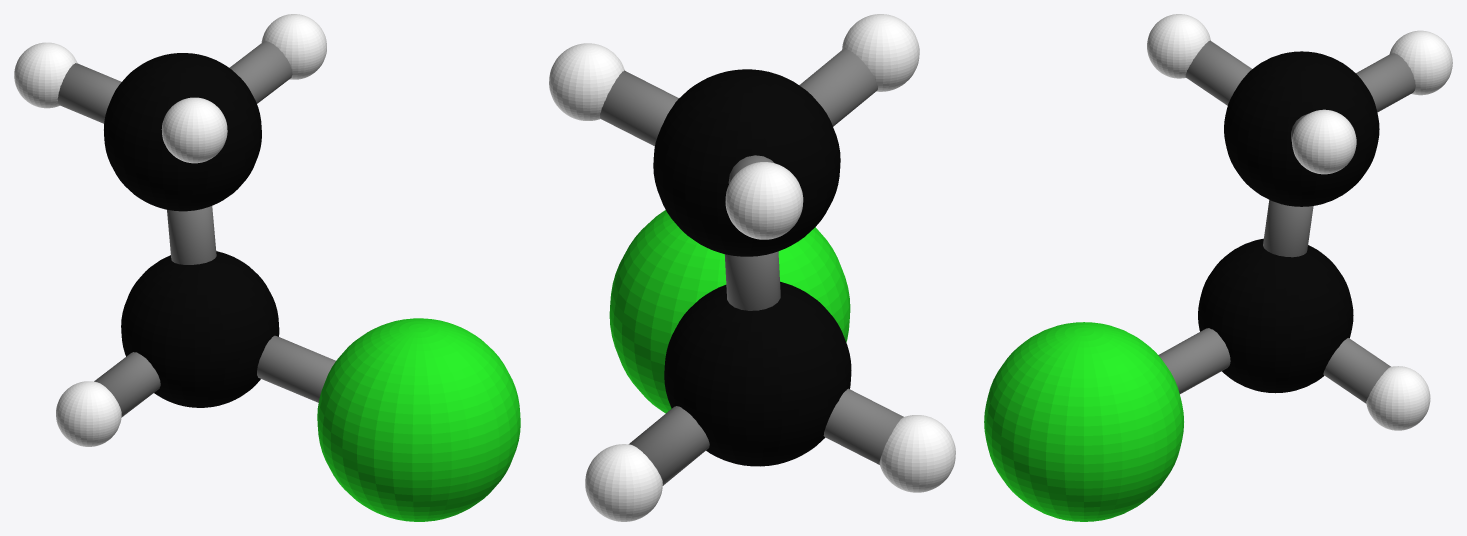
Rendered from CLORURO VINILO.obj.
3 renders of one model, left to right at view 1: azimuth 30°, elevation 25°; view 2: azimuth 150°, elevation 25°; view 3: azimuth 270°, elevation 25°, orthographic. The views are drawn at different scales.
Parts seen in each view (by area): view 1: Carbon_ball_Sphere.001, Chlorine_ball_Sphere.002, Hydrogen_ball_Sphere, Stick_Cylinder.005_Cylinder.005, Stick_Cylinder.002_Cylinder.002, Stick_Cylinder_Cylinder, Stick_Cylinder.004_Cylinder.004, Stick_Cylinder.003_Cylinder.003; view 2: Carbon_ball_Sphere.001, Hydrogen_ball_Sphere, Chlorine_ball_Sphere.002, Stick_Cylinder.004_Cylinder.004, Stick_Cylinder.003_Cylinder.003, Stick_Cylinder.006_Cylinder.006, Stick_Cylinder.001_Cylinder.001, Stick_Cylinder.002_Cylinder.002; view 3: Carbon_ball_Sphere.001, Chlorine_ball_Sphere.002, Hydrogen_ball_Sphere, Stick_Cylinder.005_Cylinder.005, Stick_Cylinder.006_Cylinder.006, Stick_Cylinder.001_Cylinder.001, Stick_Cylinder.002_Cylinder.002, Stick_Cylinder_Cylinder.
Part boxes in pixels (x1,y1,x2,y2): Carbon_ball_Sphere.001: (104, 53, 279, 407); Chlorine_ball_Sphere.002: (317, 318, 520, 521); Hydrogen_ball_Sphere: (14, 14, 326, 446); Stick_Cylinder.005_Cylinder.005: (257, 335, 335, 402); Stick_Cylinder.002_Cylinder.002: (167, 206, 216, 264); Stick_Cylinder_Cylinder: (57, 63, 121, 123); Stick_Cylinder.004_Cylinder.004: (94, 352, 160, 417); Stick_Cylinder.003_Cylinder.003: (229, 41, 292, 103); Carbon_ball_Sphere.001: (653, 69, 851, 466); Hydrogen_ball_Sphere: (549, 14, 955, 521); Chlorine_ball_Sphere.002: (609, 210, 850, 413); Stick_Cylinder.004_Cylinder.004: (823, 388, 903, 464); Stick_Cylinder.003_Cylinder.003: (600, 70, 678, 146); Stick_Cylinder.006_Cylinder.006: (629, 406, 709, 485); Stick_Cylinder.001_Cylinder.001: (799, 48, 877, 126); Stick_Cylinder.002_Cylinder.002: (724, 251, 780, 310); Carbon_ball_Sphere.001: (1198, 51, 1379, 393); Chlorine_ball_Sphere.002: (984, 322, 1183, 521); Hydrogen_ball_Sphere: (1147, 14, 1452, 430); Stick_Cylinder.005_Cylinder.005: (1158, 328, 1230, 393); Stick_Cylinder.006_Cylinder.006: (1323, 338, 1390, 403); Stick_Cylinder.001_Cylinder.001: (1185, 40, 1251, 105); Stick_Cylinder.002_Cylinder.002: (1263, 200, 1313, 257); Stick_Cylinder_Cylinder: (1356, 53, 1415, 112).
Size of the model in its own units: 3.64 by 4.04 by 4.18.
